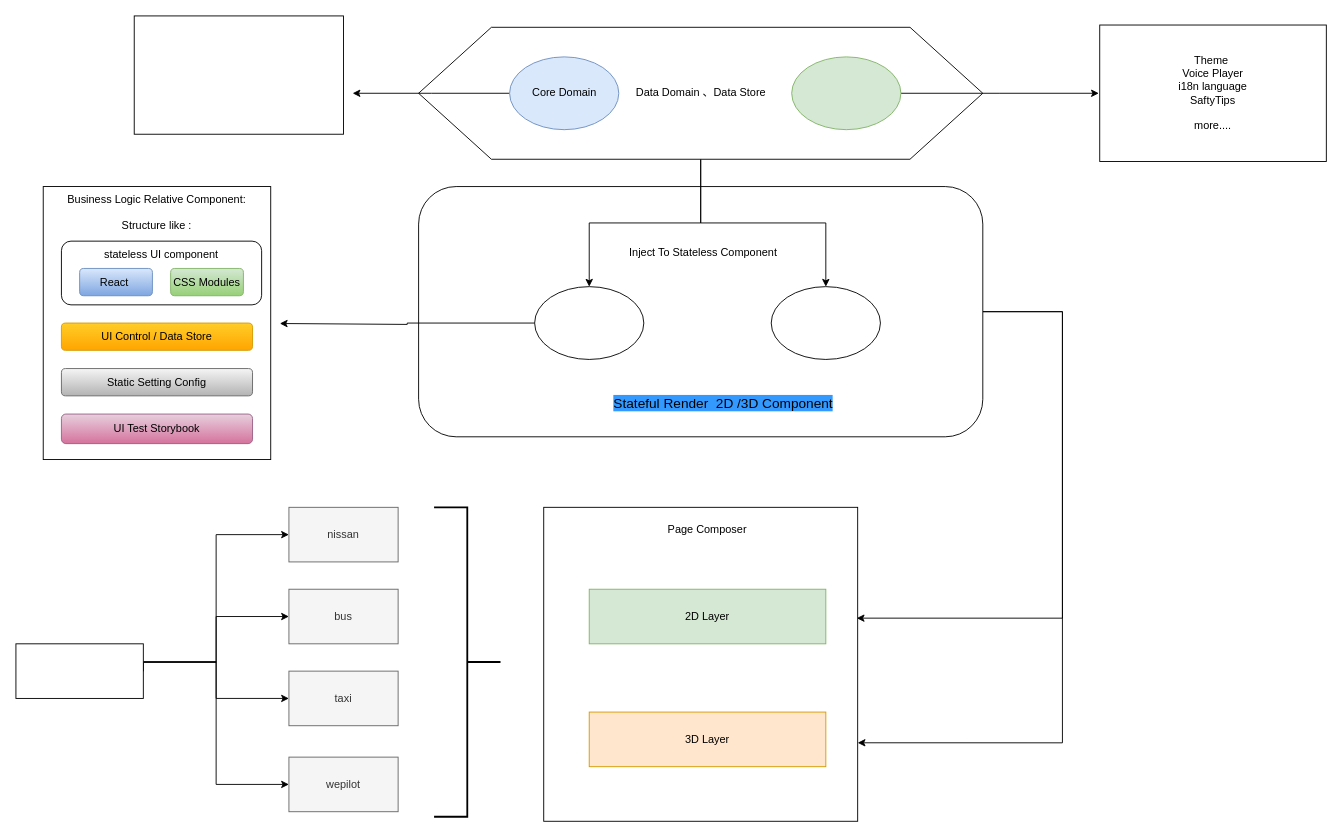
The diagram is 1342 pixels wide and 837 high, and some of its shapes have lost their labels. The centre of each missing label's shape, as x and y in pixels:
"Car Basic Data: -Position -Quaternion -Battery -Speed -Signal more...." belongs at point 238,74.
"Other Domain" belongs at point 846,93.
"Shared Component" belongs at point 825,322.
"Specific Component" belongs at point 589,322.
"viz" belongs at point 79,670.
